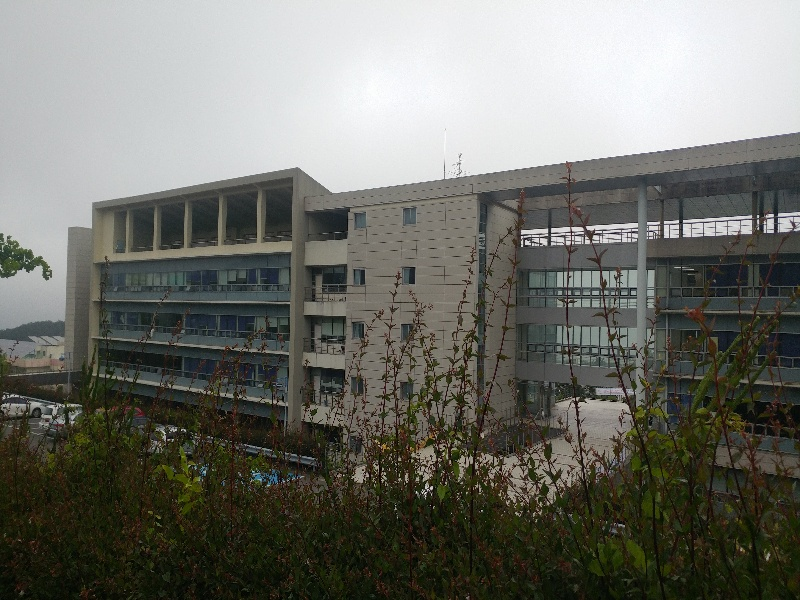Engineering College Building 4: (71, 130, 797, 432)
